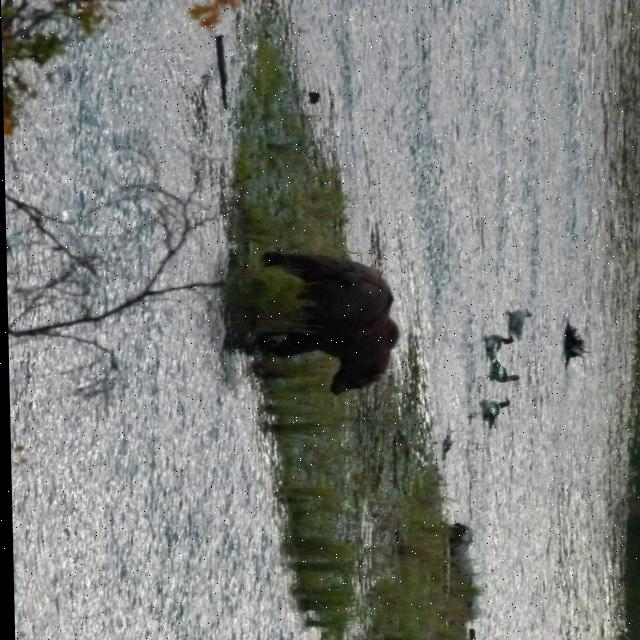bear face: (255, 258, 394, 394)
